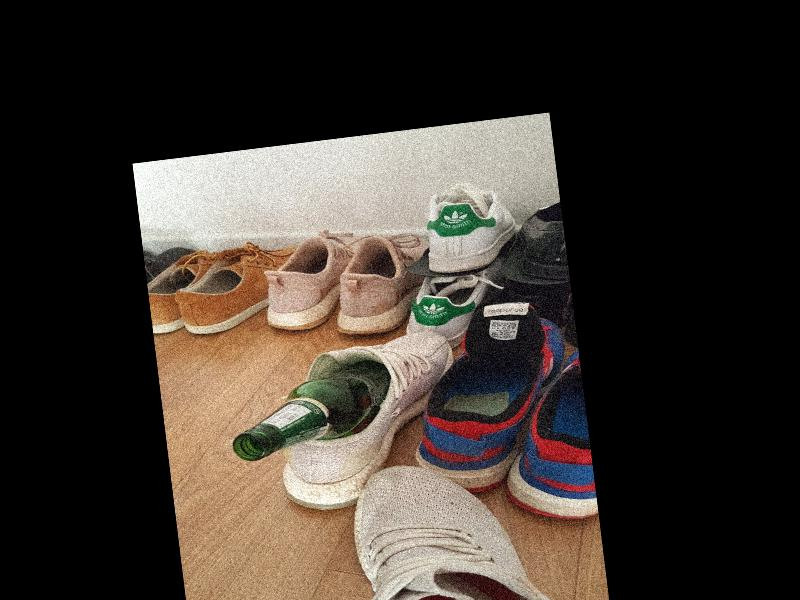Beer: (224, 354, 399, 463)
